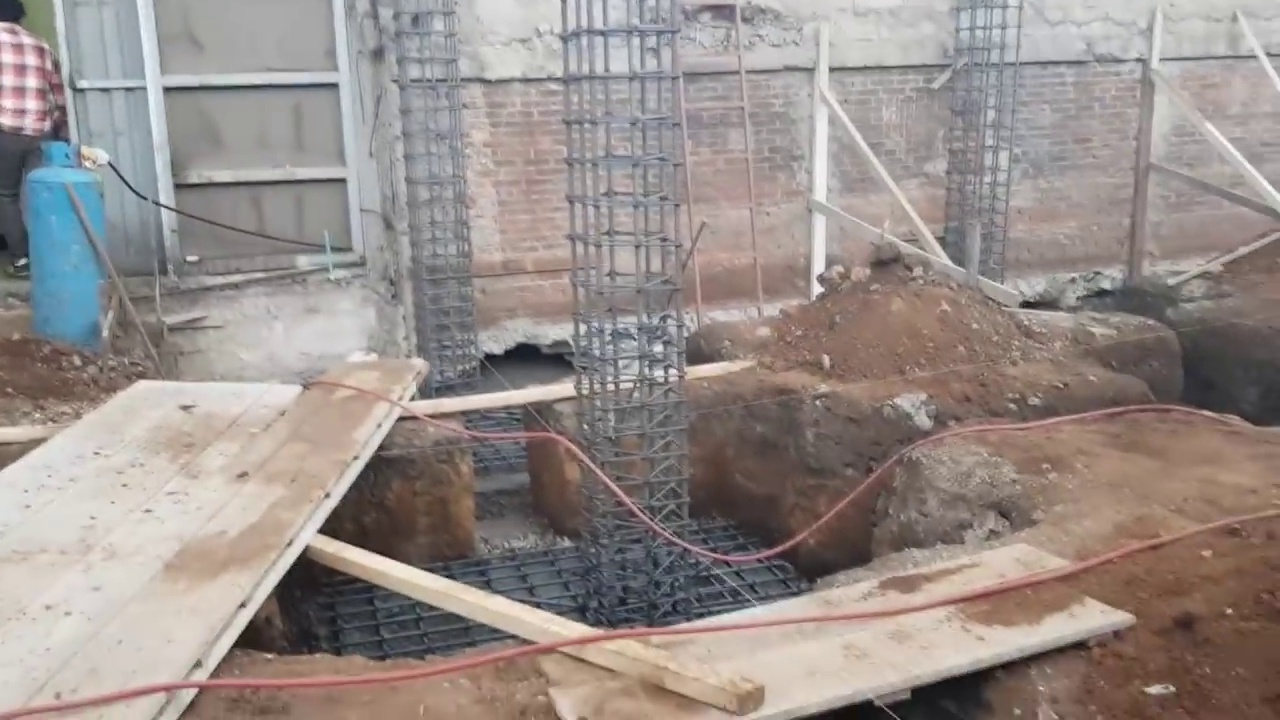helmet-off: (0, 0, 33, 29)
person: (0, 0, 67, 283)
